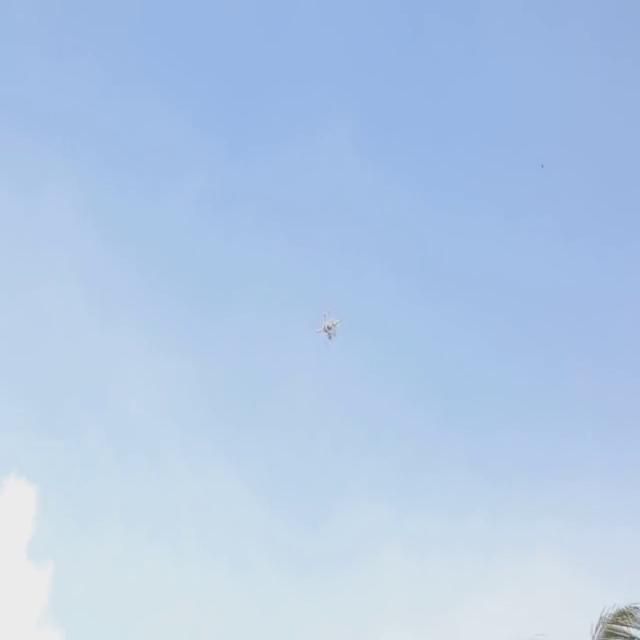drone: (316, 314, 338, 346)
